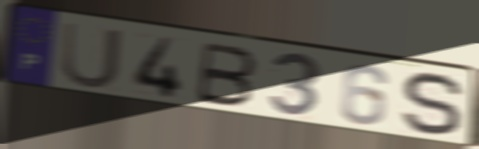3: (267, 50, 323, 121)
4: (130, 34, 184, 101)
6: (337, 63, 390, 127)
B: (192, 40, 260, 109)
S: (400, 70, 467, 139)
U: (59, 19, 125, 91)
